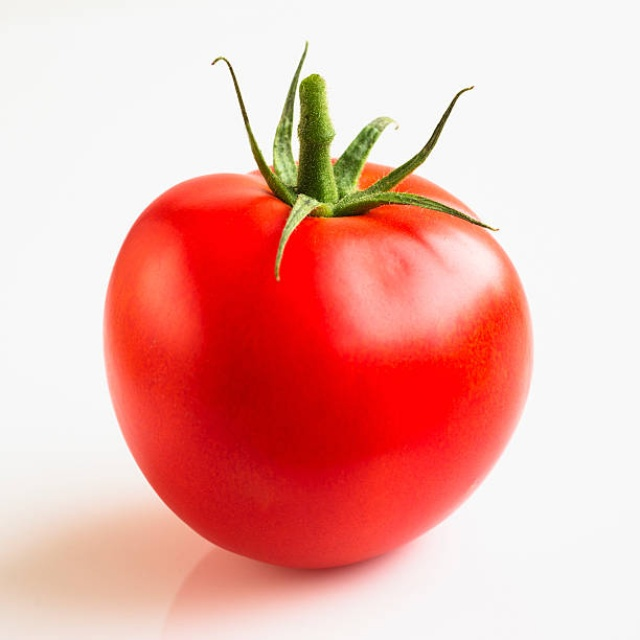tomato: (104, 151, 528, 573)
